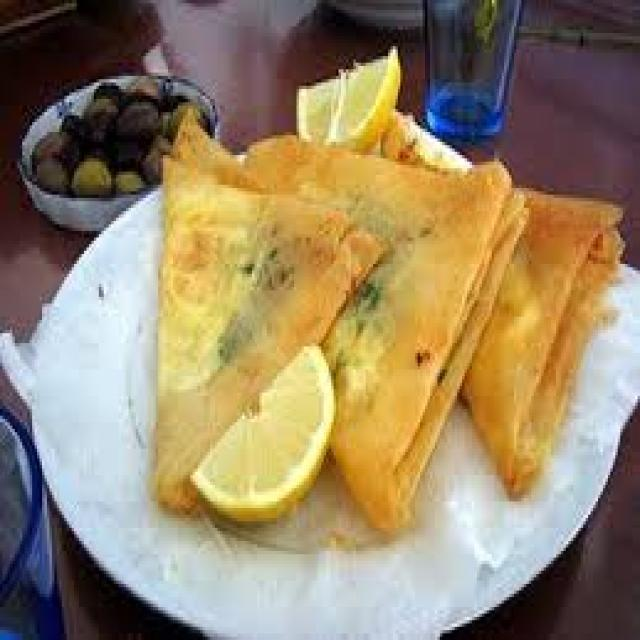brik: (315, 121, 563, 546), (91, 183, 383, 504), (487, 144, 636, 490)
